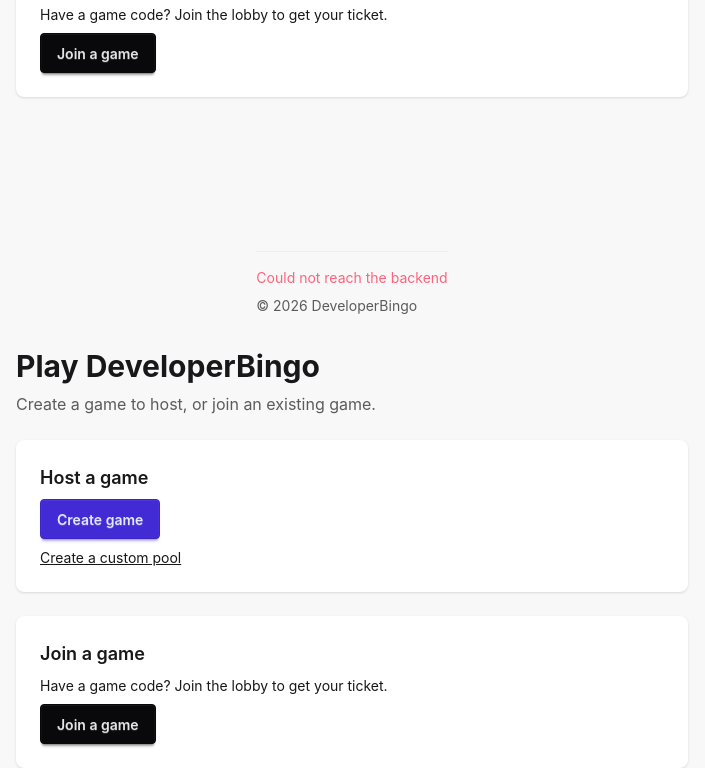
HomeView › creates a game and shows the code and the private host link
(page scrolled)
Click the button with test id "create-game".
click(100, 519)  # box [40, 499, 160, 539]
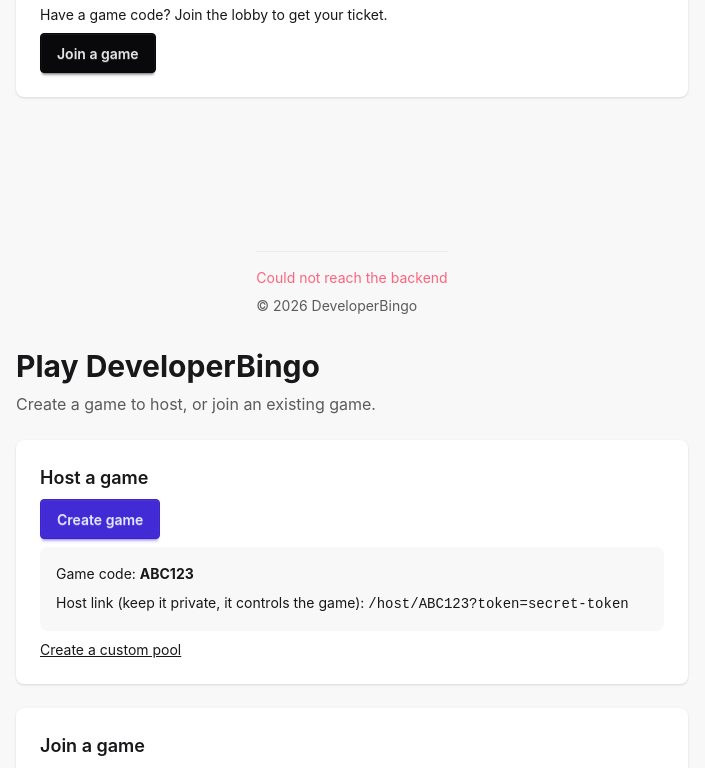
Expected: the text "ABC123" is shown, [140, 565, 194, 582]
Expected: the text "/host/ABC123?token=secret-token" is shown, [368, 596, 629, 612]
